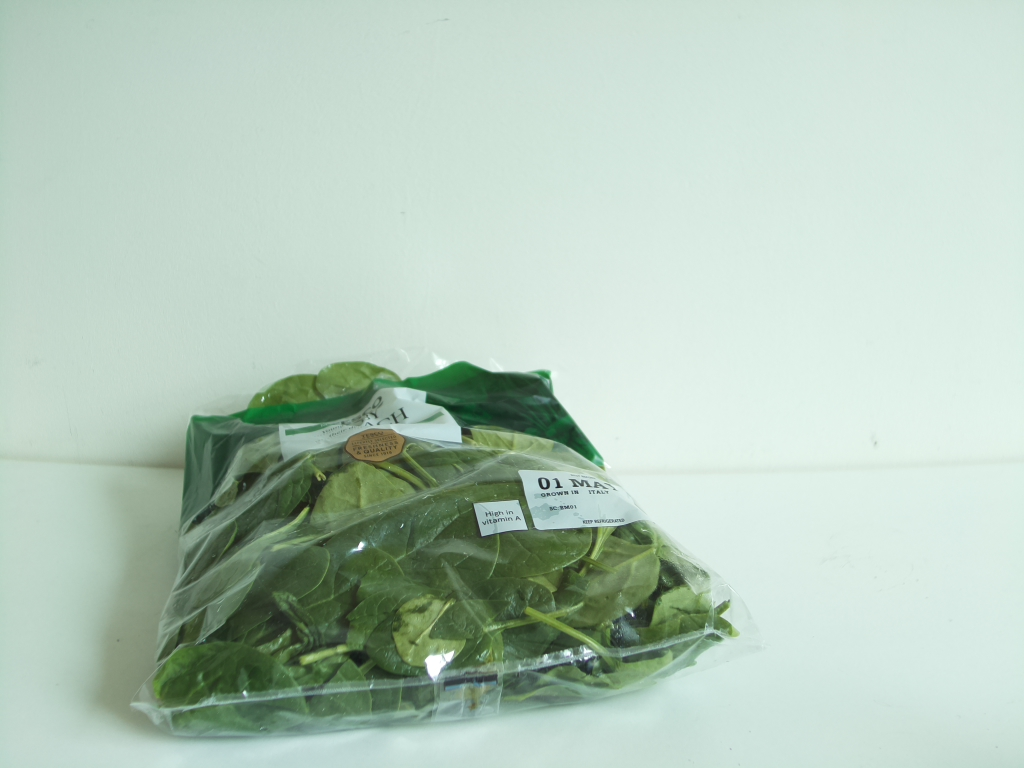salad: (147, 352, 763, 731)
